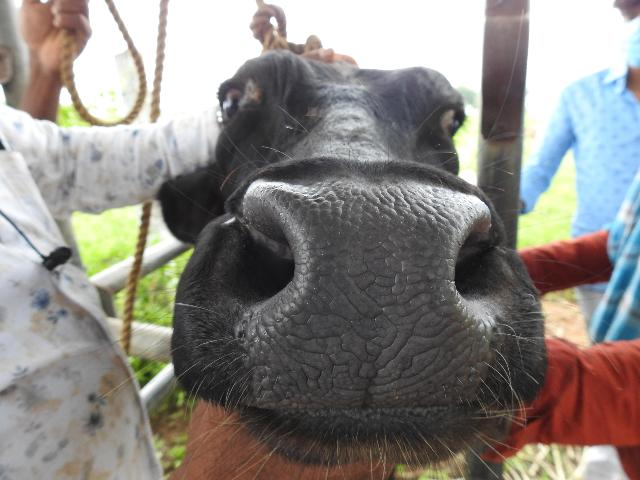Muzzle: (282, 191, 458, 401)
